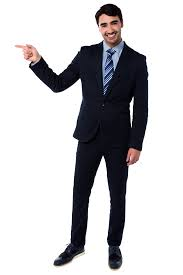hand: (7, 40, 48, 67)
